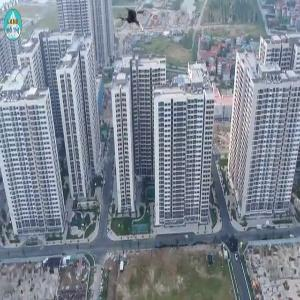drone: (115, 3, 154, 42)
